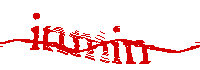i: (112, 25, 124, 65), (31, 11, 40, 49)
m: (69, 30, 110, 62)
n: (123, 38, 152, 67), (42, 25, 69, 55)
